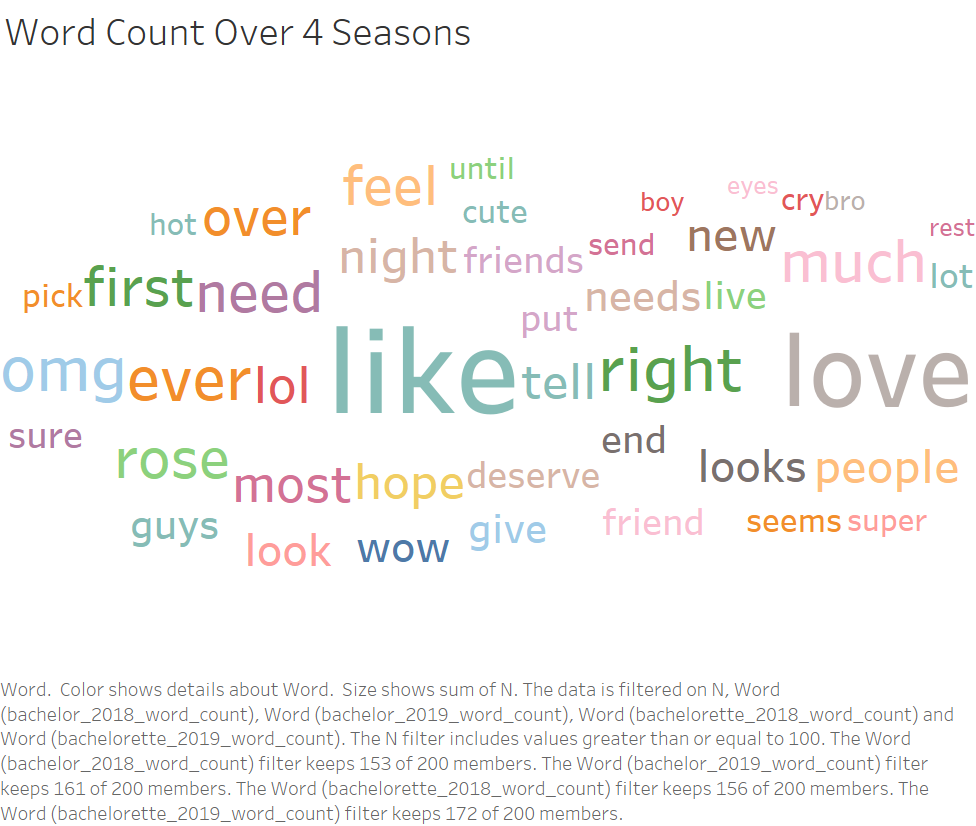

The page's visual inventory and layout, read from the dashboard file:
{"tool":"tableau","page":{"name":"Dashboard 3","canvas":[1000,800],"ordinal":2},"visuals":[{"type":"worksheet","title":"Sheet 4","mark":"Text","box":[8,8,984,703]},{"type":"dashboard-object","box":[132,676,164,52]},{"type":"dashboard-object","box":[314,676,164,52]},{"type":"dashboard-object","box":[495,676,164,52]},{"type":"dashboard-object","box":[673,676,164,52]},{"type":"filter","title":"Sheet 4","param":"[federated.16658b01viqqva0zpzih81czo7am].[none:n:qk]","box":[8,711,984,81]}]}

Visuals, with their boxes on the page's 1000x800 design canvas (x1, y1, x2, y2). These are canvas units, not pixel positions in the 976x826 screenshot, which may show the page scaled, cropped or inside an application window:
"Sheet 4" worksheet (Text marks): l=8, t=8, r=992, b=711
dashboard-object: l=132, t=676, r=296, b=728
dashboard-object: l=314, t=676, r=478, b=728
dashboard-object: l=495, t=676, r=659, b=728
dashboard-object: l=673, t=676, r=837, b=728
"Sheet 4" filter: l=8, t=711, r=992, b=792
